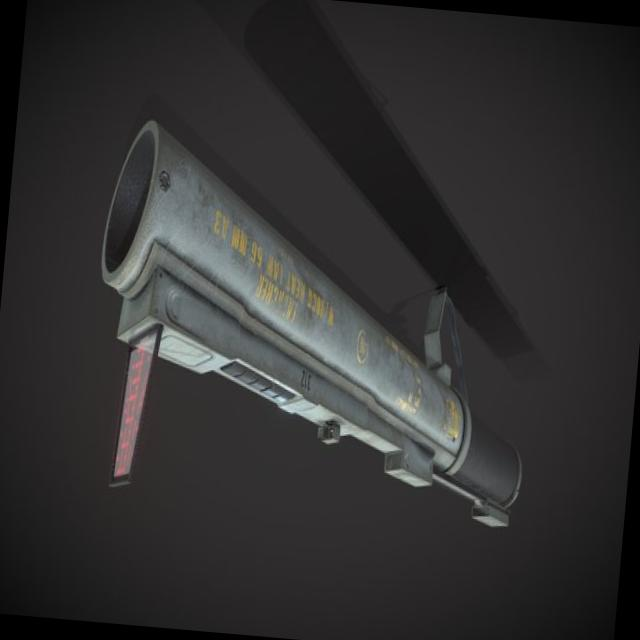Weapon: (72, 94, 554, 558)
